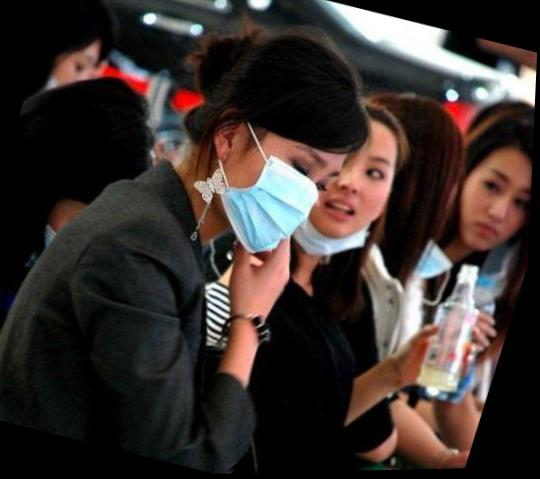NONE: (450, 164, 534, 263)
OK: (196, 119, 343, 263)
WRONG: (291, 142, 397, 260)
